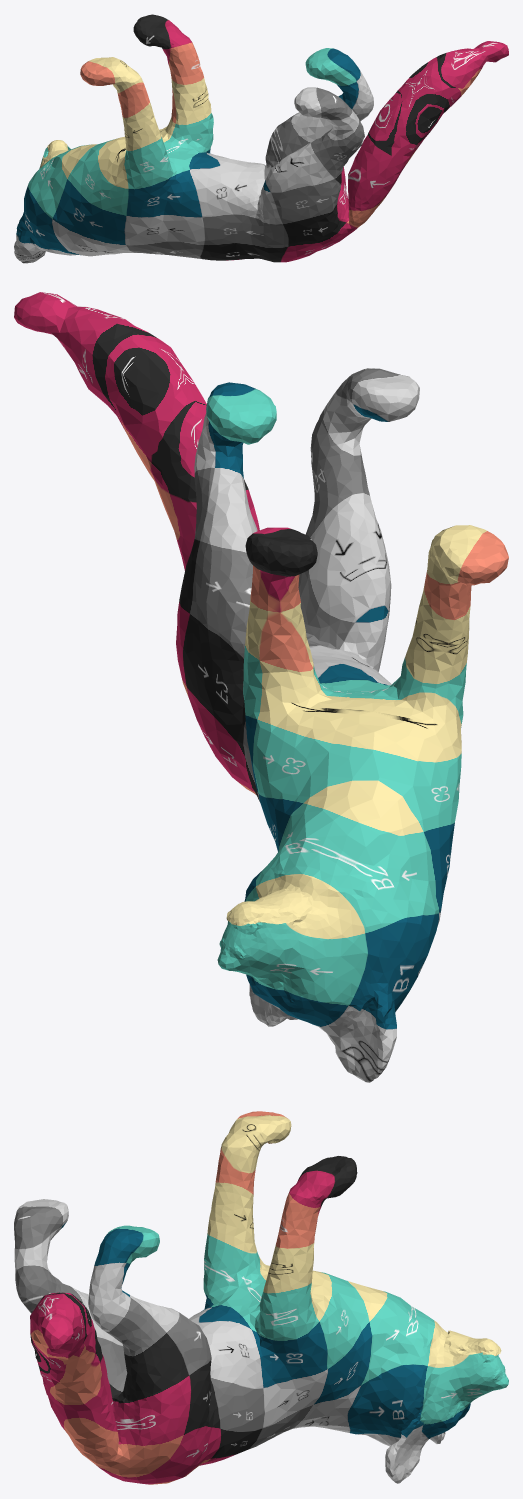
File: dog_05-fox_02.obj
3 views of the same model, one above another, from view 1: azimuth 30°, elevation 25°; view 2: azimuth 150°, elevation 25°; view 3: azimuth 270°, elevation 25° (orthographic). The views are drawn at different scales.
Visible parts, largest first — view 1: dog_05-fox_02_export; view 2: dog_05-fox_02_export; view 3: dog_05-fox_02_export.
Boxes of the visible parts, bbox=[...] form: dog_05-fox_02_export: bbox=[14, 14, 508, 263]; dog_05-fox_02_export: bbox=[14, 292, 508, 1082]; dog_05-fox_02_export: bbox=[14, 1111, 508, 1484].
Size of the model in its own units: 0.8388 by 0.575 by 0.768.
